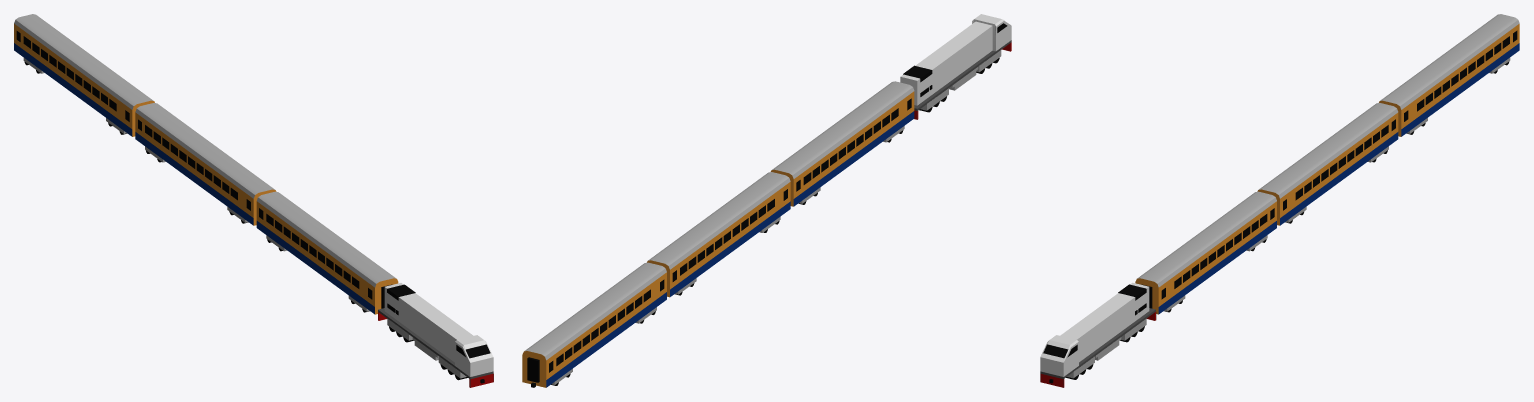
The model's file is set kereta.fbx.
3 views of the same model, side by side, from view 1: azimuth 30°, elevation 25°; view 2: azimuth 150°, elevation 25°; view 3: azimuth 330°, elevation 25° (orthographic). The views are drawn at different scales.
Parts seen in each view (by area): view 1: pCube33, pCube35, pCube34, pCube12; view 2: pCube35, pCube33, pCube34, pCube12; view 3: pCube33, pCube35, pCube34, pCube12.
Part boxes in pixels (box(x1,y1,x2,y2)): pCube33: box(256, 191, 398, 314); pCube35: box(14, 14, 154, 136); pCube34: box(135, 103, 276, 225); pCube12: box(378, 283, 493, 387); pCube35: box(522, 262, 666, 387); pCube33: box(770, 81, 914, 206); pCube34: box(647, 172, 790, 297); pCube12: box(900, 14, 1011, 119); pCube33: box(1135, 191, 1276, 314); pCube35: box(1379, 14, 1519, 136); pCube34: box(1257, 103, 1398, 225); pCube12: box(1040, 282, 1156, 387).
Size of the model in its own units: 1.02 by 1.62 by 34.04.
